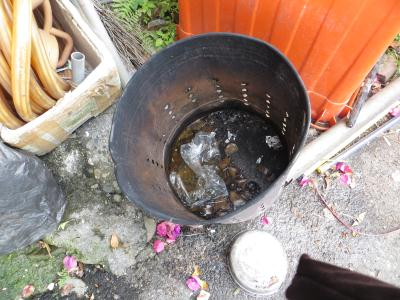bowl: (224, 227, 291, 297)
bucket: (103, 29, 318, 230)
